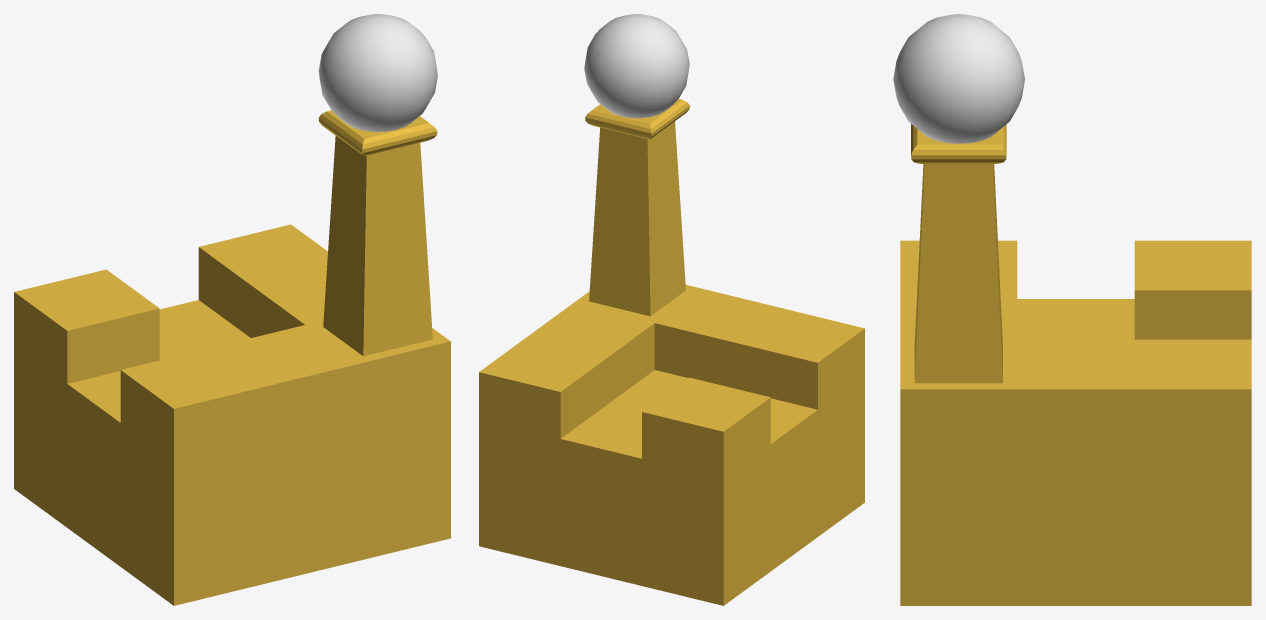
Rendered from LPowerBlock.fbx.
The picture shows the model from 3 angles, left to right: view 1: azimuth 30°, elevation 25°; view 2: azimuth 150°, elevation 25°; view 3: azimuth 270°, elevation 25°; orthographic projection. The views are drawn at different scales.
Parts seen in each view (by area): view 1: Base.001, Sphere.001; view 2: Base.001, Sphere.001; view 3: Base.001, Sphere.001.
Part boxes in pixels (box(x1,y1,x2,y2)): Base.001: box(14, 110, 450, 605); Sphere.001: box(318, 14, 437, 131); Base.001: box(479, 99, 864, 605); Sphere.001: box(584, 14, 689, 118); Base.001: box(900, 124, 1251, 605); Sphere.001: box(893, 14, 1024, 143).
Size of the model in its own units: 409 by 705 by 408.
